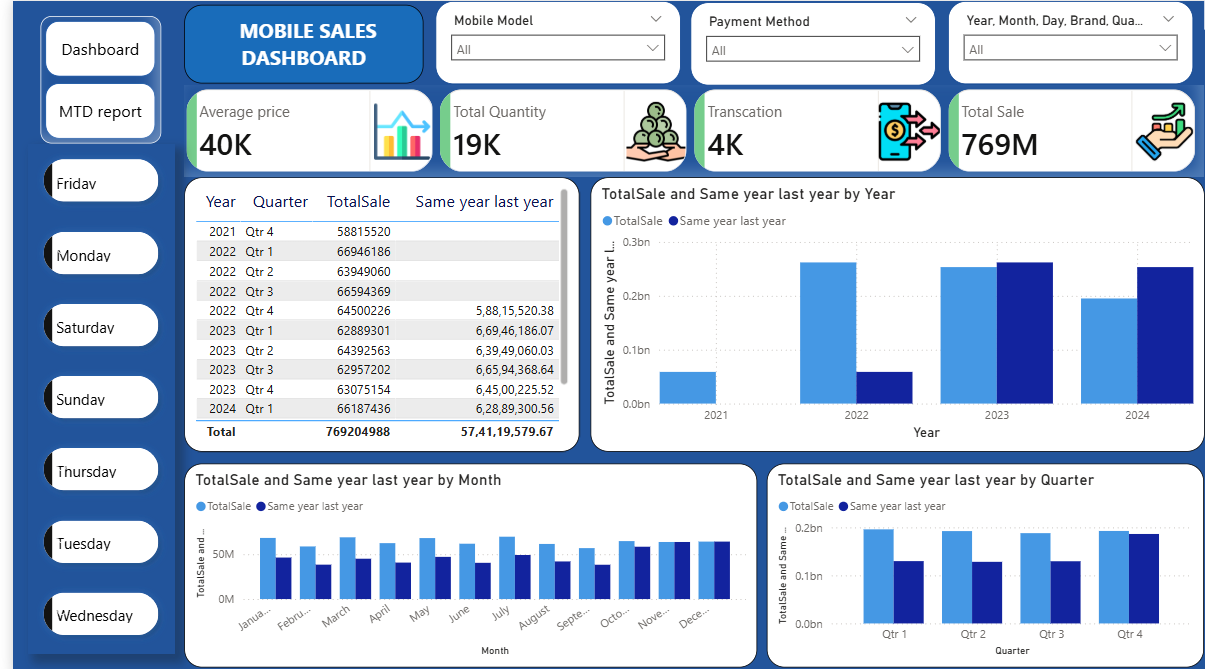

This screenshot's page, from the dashboard's own definition file:
{"tool":"powerbi","page":{"name":"same period last year year","canvas":[1280,720],"ordinal":2},"visuals":[{"type":"textbox","box":[15.9,4.3,156.5,160.9],"z":0},{"type":"cardVisual","fields":{"Data":["Sheet1.Average price","Sheet1.Total_sold","Sheet1.Transcation","Sheet1.TotalSale"]},"box":[182.9,89.5,1088.2,98.7],"z":1000},{"type":"slicer","fields":{"Values":["Sheet1.Mobile Model"]},"box":[450,0,261.3,88.9],"z":2000},{"type":"slicer","fields":{"Values":["Sheet1.Payment Method"]},"box":[722.2,1.4,261.3,88.9],"z":3000},{"type":"slicer","fields":{"Values":["date_list.Date.Variation.Date Hierarchy.Year","date_list.Date.Variation.Date Hierarchy.Month","date_list.Date.Variation.Date Hierarchy.Day","Sheet1.Brand","date_list.Date.Variation.Date Hierarchy.Quarter"]},"box":[997.1,0,261.3,88.9],"z":4000},{"type":"textbox","box":[182.6,4.3,255.1,84.1],"z":5000},{"type":"advancedSlicerVisual","fields":{"Values":["date_list.Day Name"]},"box":[15.9,152.2,156.5,544.9],"z":6000},{"type":"qnaVisual","box":[1271,0,8.7,30.4],"z":7000},{"type":"tableEx","fields":{"Values":["date_list.Date.Variation.Date Hierarchy.Year","date_list.Date.Variation.Date Hierarchy.Quarter","Sheet1.TotalSale","Sheet1.Same year last year"]},"box":[182.6,188.4,421.7,292.8],"z":8000},{"type":"lineClusteredColumnComboChart","fields":{"Category":["date_list.Date.Variation.Date Hierarchy.Year","date_list.Date.Variation.Date Hierarchy.Quarter"],"Y":["Sheet1.TotalSale","Sheet1.Same year last year"]},"box":[615.9,188.4,655.1,292.8],"z":9000},{"type":"lineClusteredColumnComboChart","fields":{"Category":["date_list.Date.Variation.Date Hierarchy.Month"],"Y":["Sheet1.TotalSale","Sheet1.Same year last year"]},"box":[182.6,492.8,611.6,217.4],"z":10000},{"type":"lineClusteredColumnComboChart","fields":{"Category":["date_list.Date.Variation.Date Hierarchy.Quarter"],"Y":["Sheet1.TotalSale","Sheet1.Same year last year"]},"box":[804.3,492.8,466.7,217.4],"z":11000},{"type":"pageNavigator","box":[29,15.9,129,136.2],"z":12000}]}

Visuals, with their boxes in screenshot pixels (x1, y1, x2, y2), scaled from the page's 1280x720 canvas onto the 1205x669 screenshot:
textbox: rect(15, 4, 162, 153)
cardVisual - Sheet1.Average price x Sheet1.Total_sold: rect(172, 83, 1197, 175)
slicer - Sheet1.Mobile Model: rect(424, 0, 670, 83)
slicer - Sheet1.Payment Method: rect(680, 1, 926, 84)
slicer - date_list.Date.Variation.Date Hierarchy.Year x date_list.Date.Variation.Date Hierarchy.Month: rect(939, 0, 1185, 83)
textbox: rect(172, 4, 412, 82)
advancedSlicerVisual - date_list.Day Name: rect(15, 141, 162, 648)
qnaVisual: rect(1197, 0, 1204, 28)
tableEx - date_list.Date.Variation.Date Hierarchy.Year x date_list.Date.Variation.Date Hierarchy.Quarter: rect(172, 175, 569, 447)
lineClusteredColumnComboChart - date_list.Date.Variation.Date Hierarchy.Year x date_list.Date.Variation.Date Hierarchy.Quarter: rect(580, 175, 1197, 447)
lineClusteredColumnComboChart - date_list.Date.Variation.Date Hierarchy.Month x Sheet1.TotalSale: rect(172, 458, 748, 660)
lineClusteredColumnComboChart - date_list.Date.Variation.Date Hierarchy.Quarter x Sheet1.TotalSale: rect(757, 458, 1197, 660)
pageNavigator: rect(27, 15, 149, 141)
